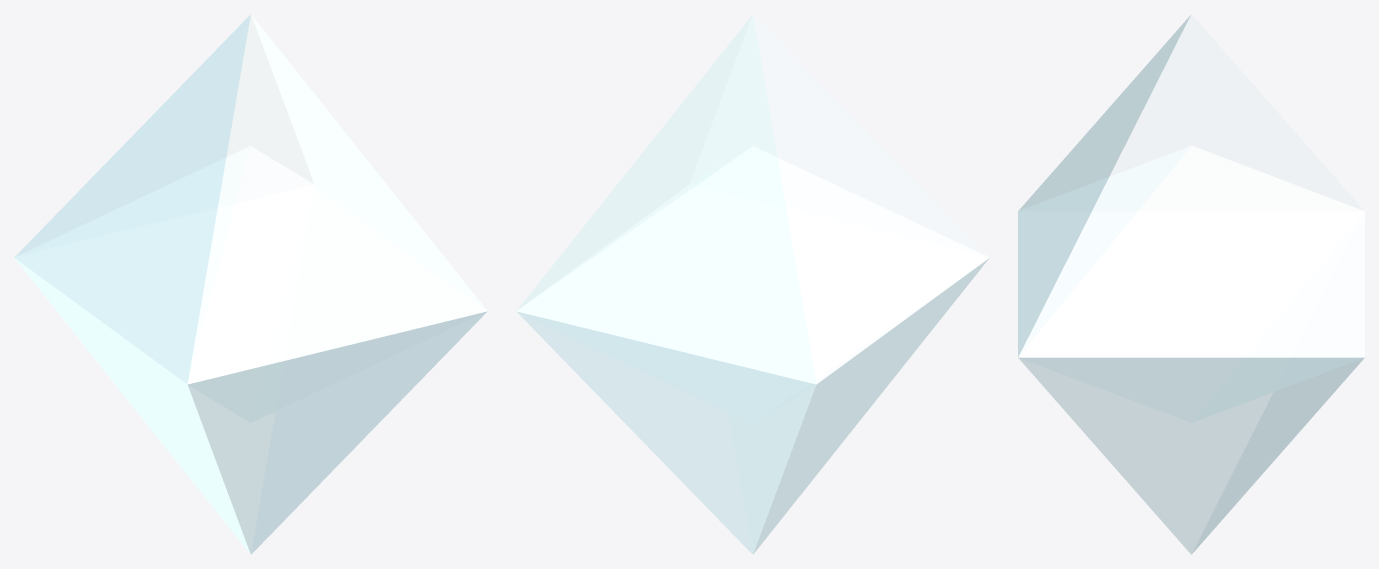
Rendered from xp_orb.glb.
The picture shows the model from 3 angles, left to right: view 1: azimuth 30°, elevation 25°; view 2: azimuth 150°, elevation 25°; view 3: azimuth 270°, elevation 25°; orthographic projection.
Parts seen in each view (by area): view 1: Gem; view 2: Gem; view 3: Gem.
Boxes of the visible parts, left/top/right/bottom form: Gem: left=14, top=14, right=487, bottom=554; Gem: left=516, top=14, right=989, bottom=554; Gem: left=1018, top=14, right=1364, bottom=554.
Bounding box in the file's own units: 0.2937 × 0.5055 × 0.2937.
